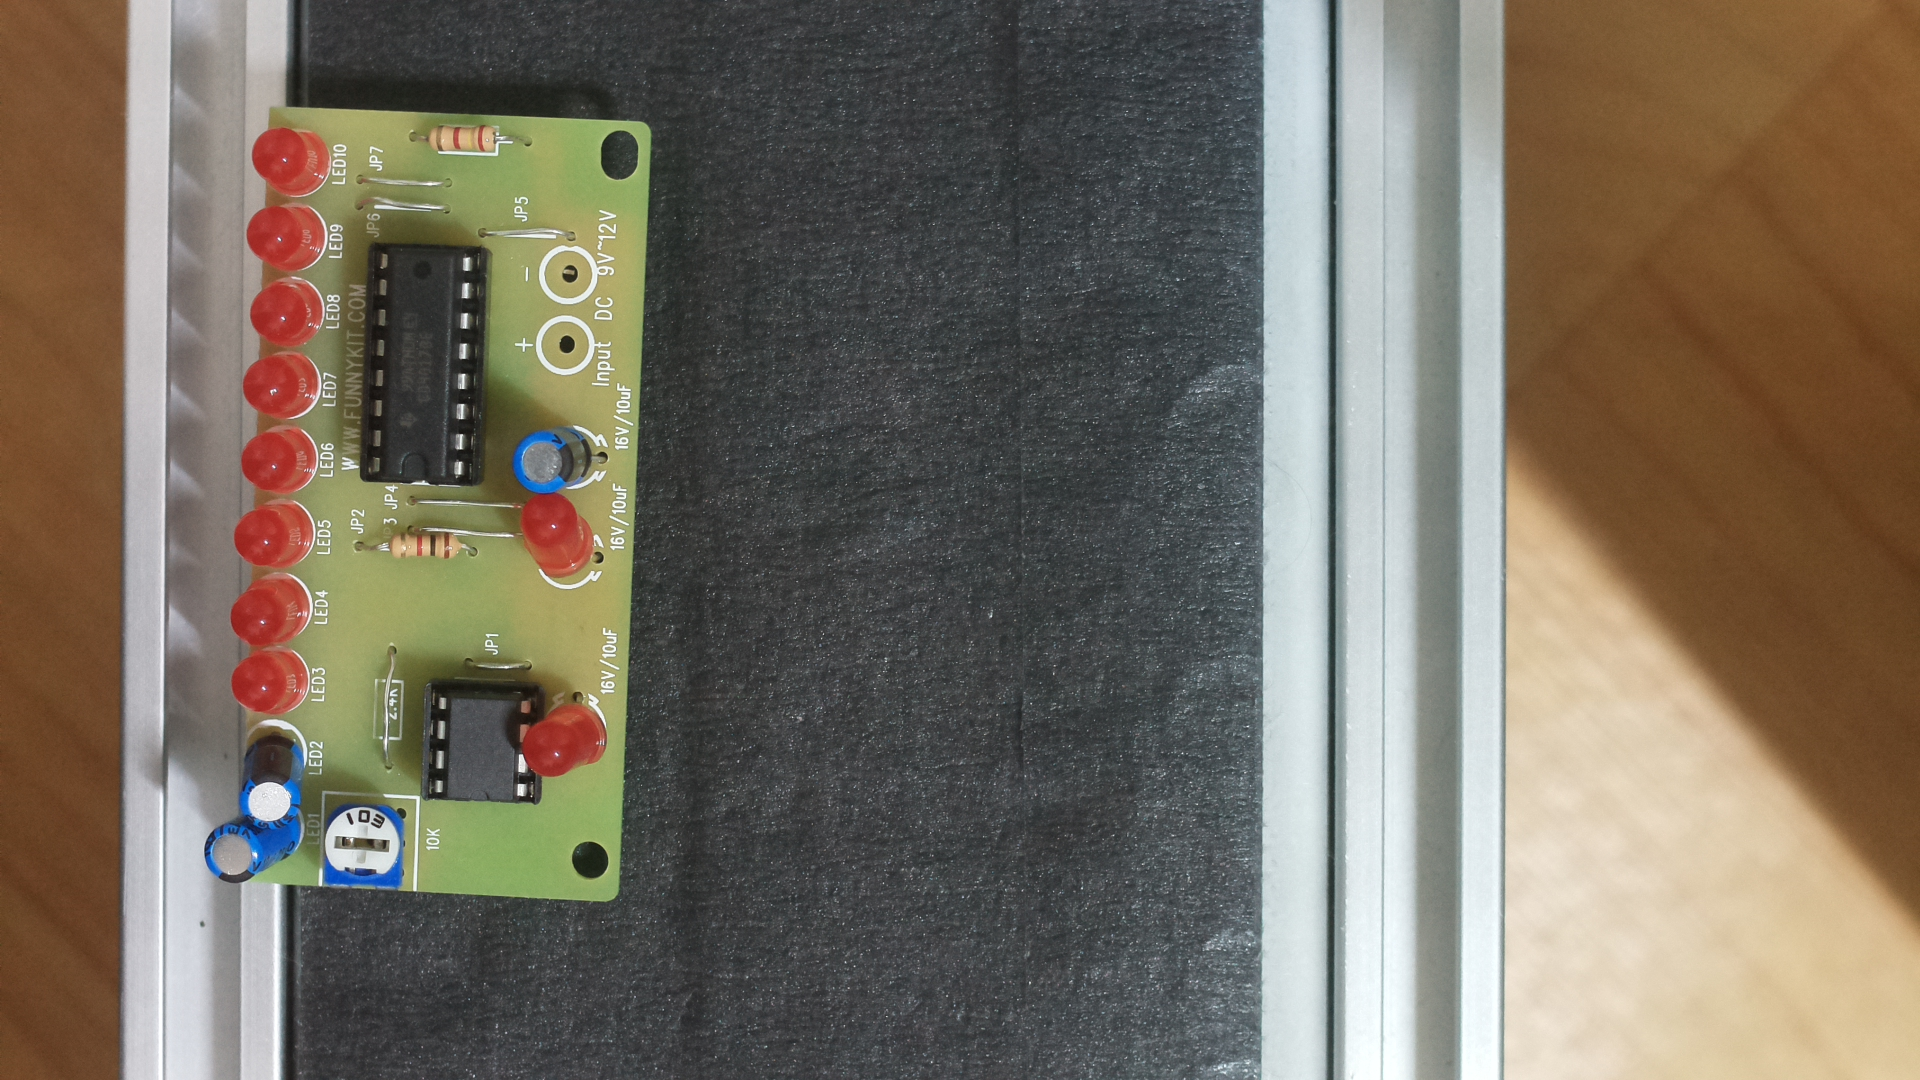B_Misordered: (196, 98, 659, 901)
